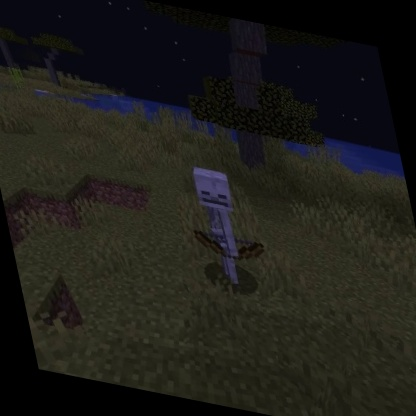skeleton: (174, 159, 278, 296)
